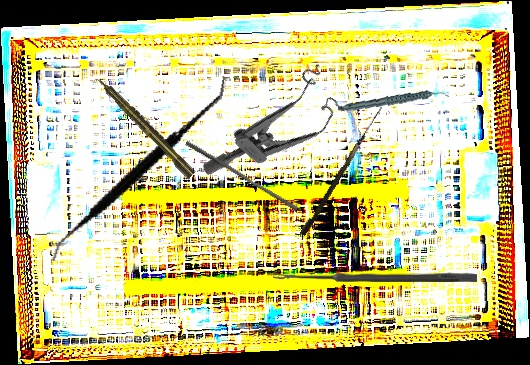Handpiece: (92, 72, 197, 181), (337, 82, 450, 121)
Hook Surgical: (299, 103, 383, 238)
Pusher: (182, 140, 301, 212)
Spatula Surgical: (48, 46, 228, 291)
Speculum: (199, 52, 357, 214)
Surgical Spoon: (273, 272, 477, 282)
